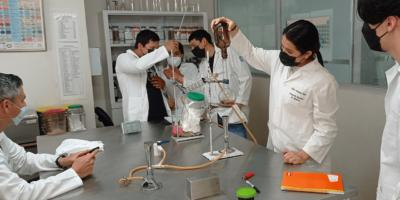Bata-Correcta: (210, 15, 339, 190)
Bata-Incorrecta: (115, 29, 178, 129)
